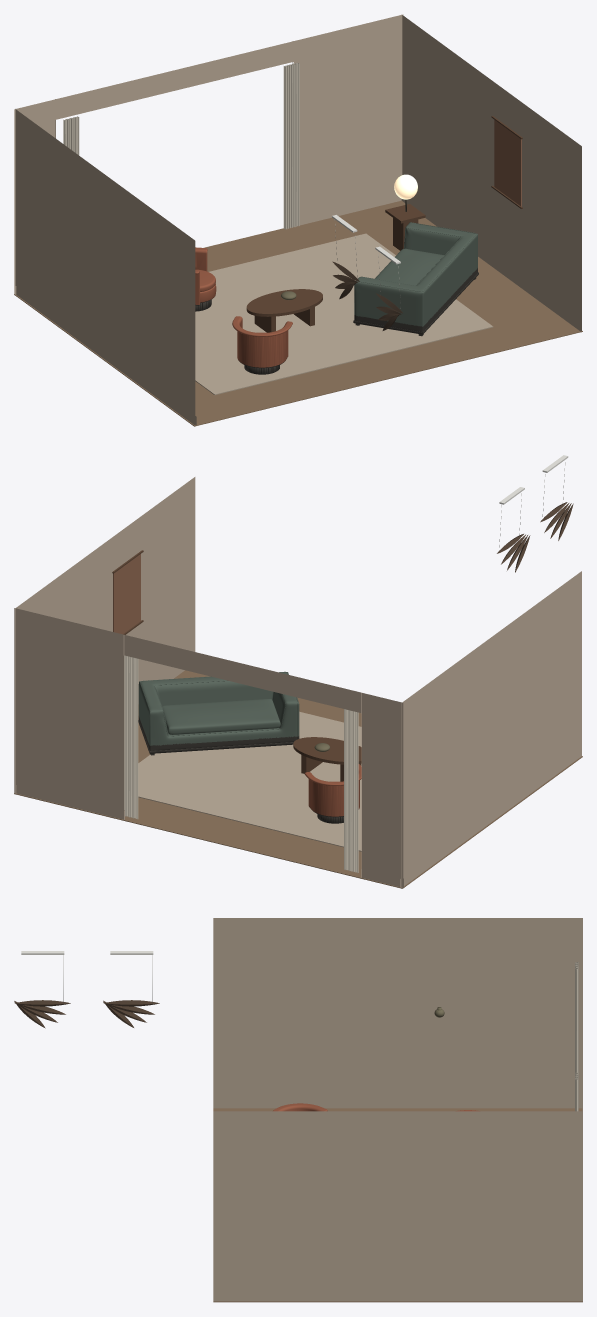
Rendered from great-1.glb.
3 views of the same model, one above another, from view 1: azimuth 30°, elevation 25°; view 2: azimuth 150°, elevation 25°; view 3: azimuth 270°, elevation 25° (orthographic). The views are drawn at different scales.
Visible parts, largest first — view 1: DESIGN | great removable wall finish, DESIGN | Great room primary ground, DESIGN | great floor finish, DESIGN | Great room sofa facing conversation, DESIGN | Great room soft window edge.001, DESIGN | Required Bellustar swivel chair one, DESIGN | Great room linen hanging, DESIGN | R7 low conversation table, DESIGN | Required Bellustar swivel chair two, DESIGN | Great room soft window edge; view 2: DESIGN | great removable wall finish, DESIGN | Great room primary ground, DESIGN | Great room sofa facing conversation, DESIGN | great floor finish, DESIGN | Great room soft window edge, DESIGN | Great room soft window edge.001, DESIGN | Great room linen hanging, DESIGN | Required Bellustar swivel chair two, DESIGN | R7 low conversation table, DESIGN | Required Flou pendant 2, DESIGN | Required Flou pendant 1; view 3: DESIGN | great removable wall finish, DESIGN | great floor finish, DESIGN | Required Flou pendant 2, DESIGN | Required Flou pendant 1.
Part boxes in pixels (x1,y1,x2,y2): DESIGN | great removable wall finish: [14, 14, 581, 425]; DESIGN | Great room primary ground: [195, 233, 493, 394]; DESIGN | great floor finish: [14, 200, 582, 426]; DESIGN | Great room sofa facing conversation: [353, 222, 478, 336]; DESIGN | Great room soft window edge.001: [283, 62, 299, 229]; DESIGN | Required Bellustar swivel chair one: [232, 316, 292, 374]; DESIGN | Great room linen hanging: [494, 120, 521, 206]; DESIGN | R7 low conversation table: [246, 289, 322, 316]; DESIGN | Required Bellustar swivel chair two: [195, 247, 216, 311]; DESIGN | Great room soft window edge: [63, 116, 79, 155]; DESIGN | great removable wall finish: [14, 477, 581, 887]; DESIGN | Great room primary ground: [138, 711, 361, 851]; DESIGN | Great room sofa facing conversation: [138, 671, 299, 755]; DESIGN | great floor finish: [14, 670, 582, 888]; DESIGN | Great room soft window edge: [344, 709, 358, 873]; DESIGN | Great room soft window edge.001: [124, 655, 138, 819]; DESIGN | Great room linen hanging: [113, 554, 140, 634]; DESIGN | Required Bellustar swivel chair two: [304, 764, 361, 823]; DESIGN | R7 low conversation table: [293, 737, 361, 764]; DESIGN | Required Flou pendant 2: [497, 534, 530, 572]; DESIGN | Required Flou pendant 1: [540, 502, 573, 540]; DESIGN | great removable wall finish: [213, 918, 582, 1301]; DESIGN | great floor finish: [213, 1108, 582, 1302]; DESIGN | Required Flou pendant 2: [103, 1000, 159, 1027]; DESIGN | Required Flou pendant 1: [14, 1000, 70, 1028].
Size of the model in its own units: 6 by 3.04 by 7.42.
